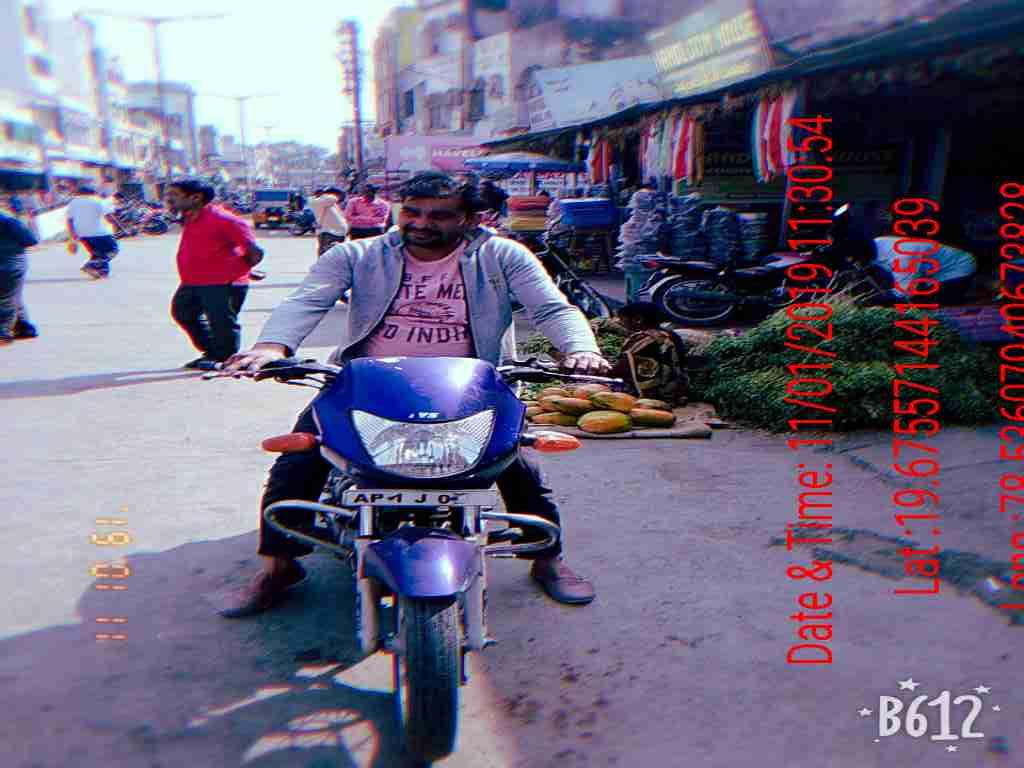plate: (340, 478, 510, 515)
